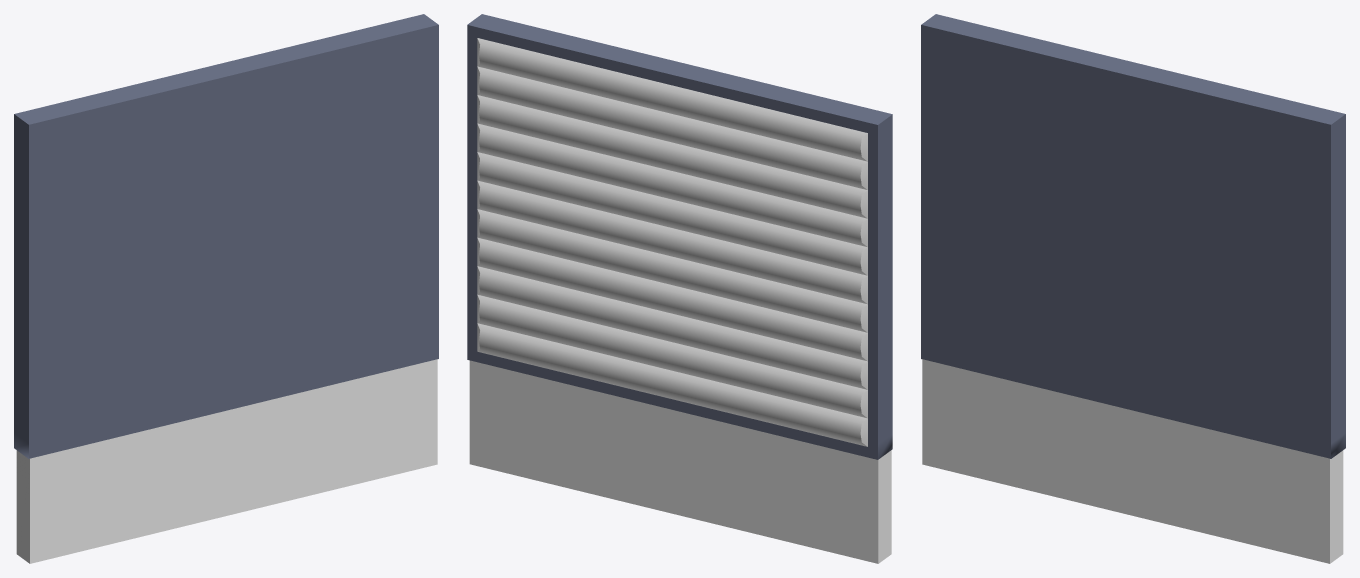
File: ExteriorWall.FBX
3 views of the same model, side by side, from view 1: azimuth 30°, elevation 25°; view 2: azimuth 150°, elevation 25°; view 3: azimuth 330°, elevation 25° (orthographic).
Parts seen in each view (by area): view 1: Box001; view 2: Box001; view 3: Box001.
Boxes of the visible parts, <box> form: Box001: <box>14,14,438,563</box>; Box001: <box>467,14,892,563</box>; Box001: <box>921,14,1345,563</box>.
Size of the model in its own units: 40.73 by 41.71 by 3.03.
